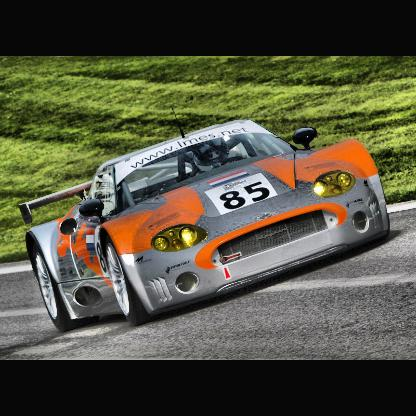Spyker C8 Convertible 2009: (17, 102, 398, 336)
